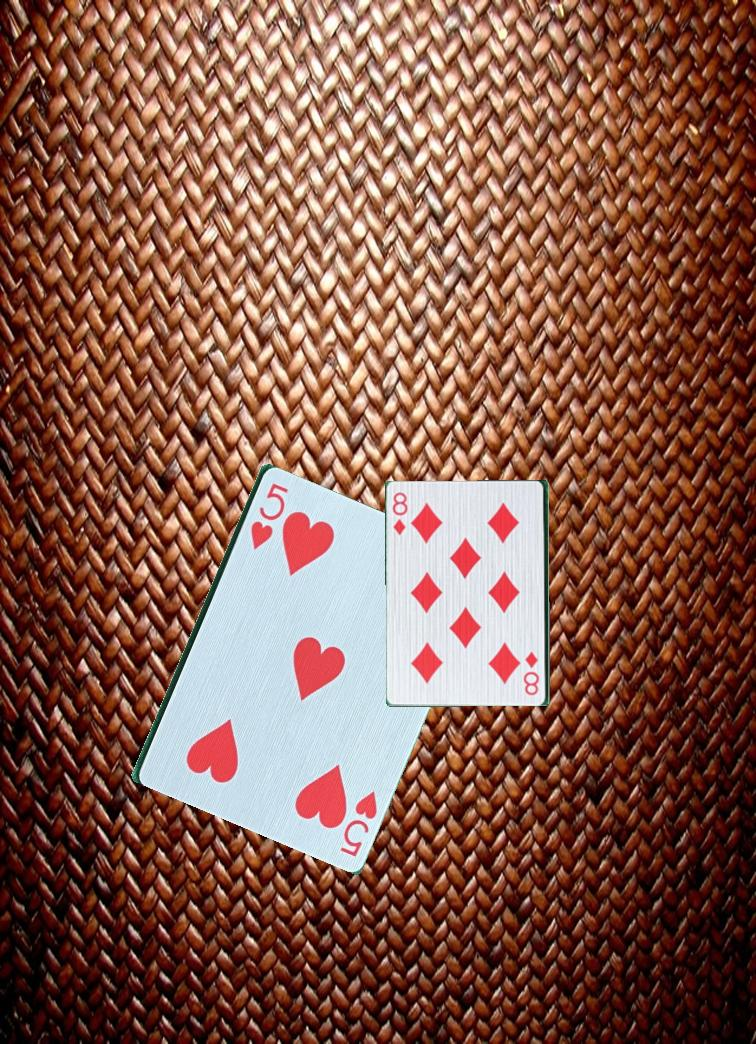5h: (246, 478, 292, 552), (336, 784, 380, 859)
8d: (389, 489, 411, 538), (523, 648, 542, 702)
